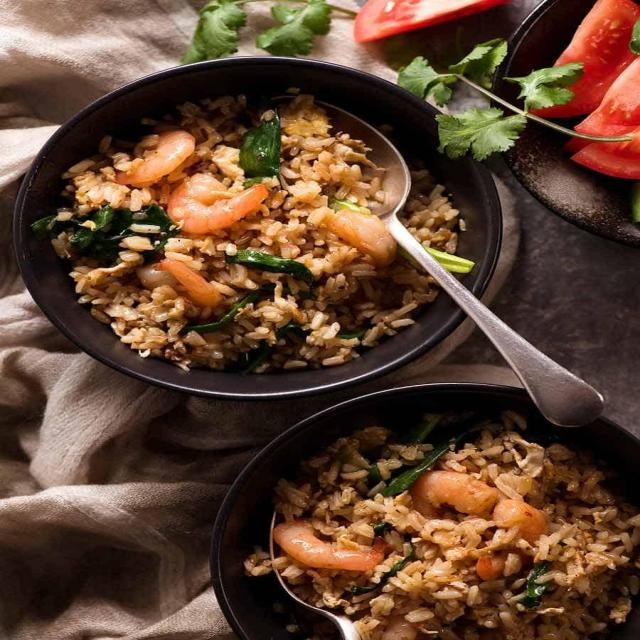Nasi Goreng: (31, 89, 470, 374), (307, 420, 628, 640)
